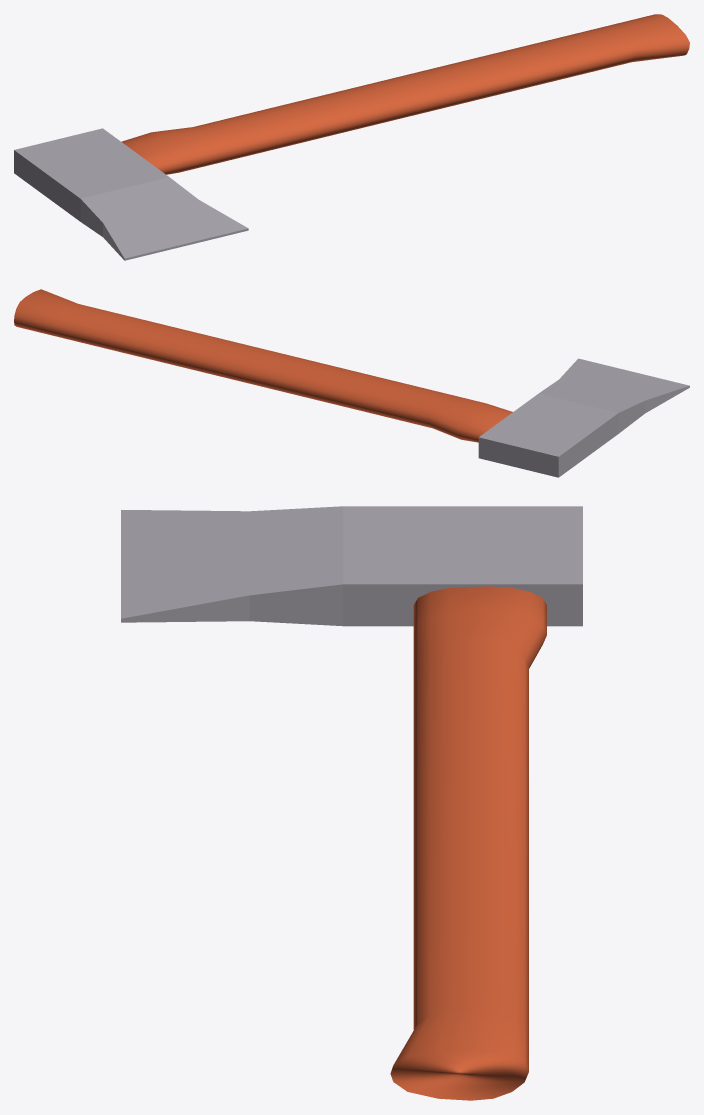
File: weapon_axe.fbx
3 views of the same model, one above another, from view 1: azimuth 30°, elevation 25°; view 2: azimuth 150°, elevation 25°; view 3: azimuth 270°, elevation 25° (orthographic). The views are drawn at different scales.
Visible parts, largest first — view 1: Cylinder.001; view 2: Cylinder.001; view 3: Cylinder.001.
Part boxes in pixels (x1,y1,x2,y2): Cylinder.001: (14,14,689,260); Cylinder.001: (14,289,689,477); Cylinder.001: (121,506,582,1100).
Bounding box in the file's own units: 231 × 9.8 × 80.
